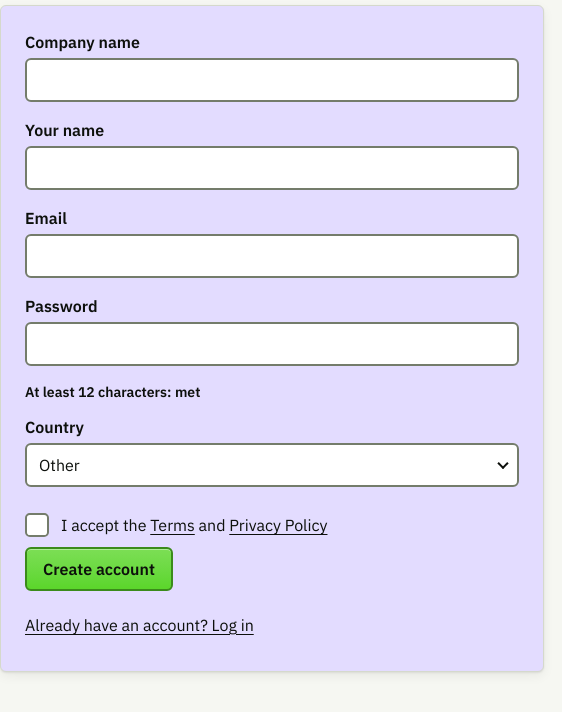
Test: submitting › shows the message about the terms when they are not ticked
(page scrolled)
Click the button "Create account". click: {"x": 99, "y": 569}
box: [25, 547, 173, 591]
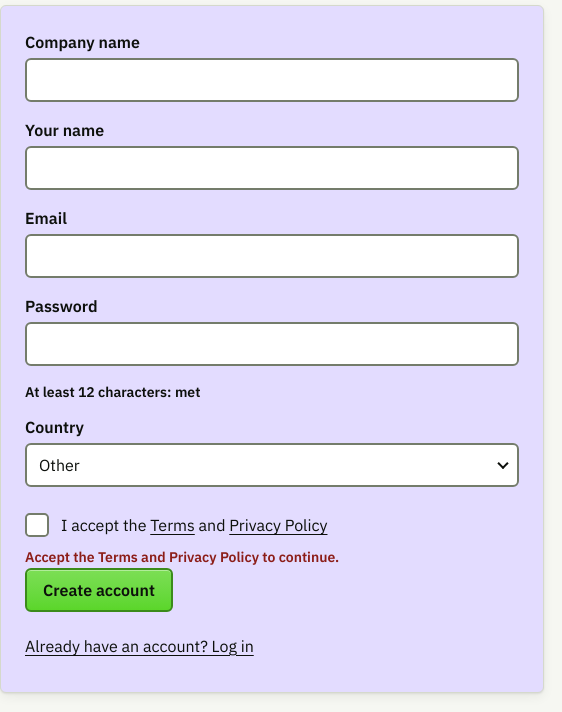
expect the text "Accept the Terms and Privacy Policy to continue." is shown: met, box [25, 548, 339, 566]
